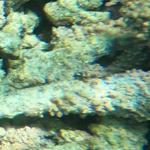dead: (3, 6, 145, 147)
